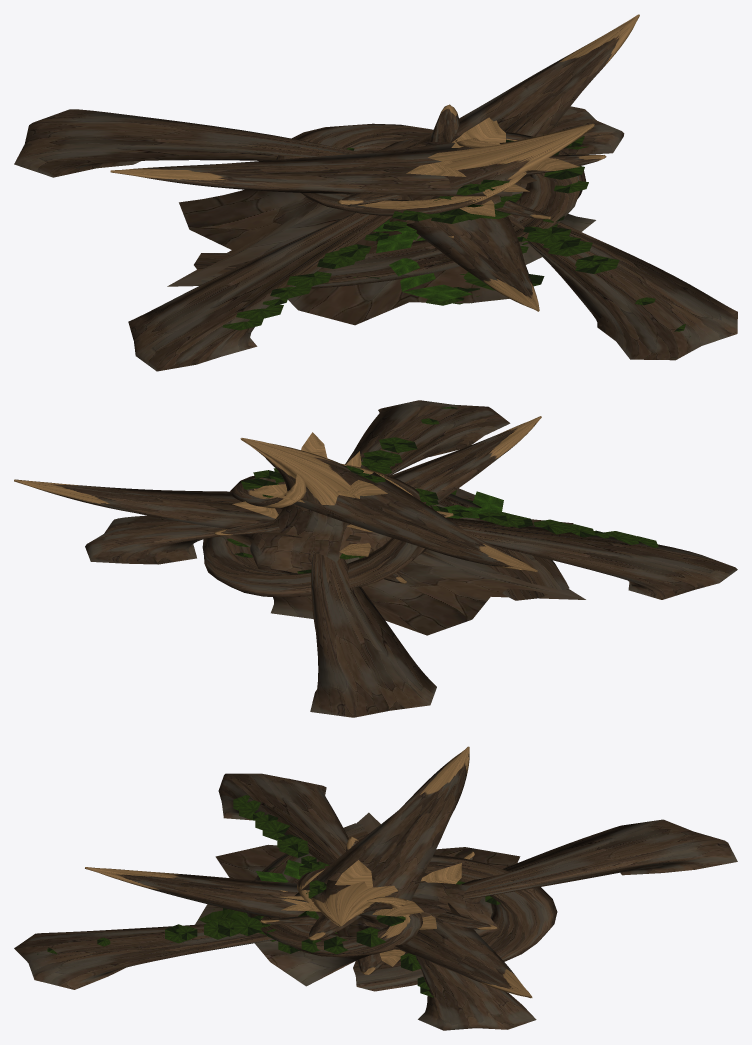
File: Raiz_Astillada.glb
The picture shows the model from 3 angles, top to bottom: view 1: azimuth 30°, elevation 25°; view 2: azimuth 150°, elevation 25°; view 3: azimuth 270°, elevation 25°; orthographic projection. The views are drawn at different scales.
Visible parts, largest first — view 1: Raiz_Astillada; view 2: Raiz_Astillada; view 3: Raiz_Astillada.
Boxes of the visible parts, x1,y1,x2,y2 form: Raiz_Astillada: (14,14,737,371); Raiz_Astillada: (14,400,737,717); Raiz_Astillada: (14,746,737,1030).
Bounding box in the file's own units: 0.7404 × 0.0854 × 0.7973.
Materials: 1 (1 with a texture image).
